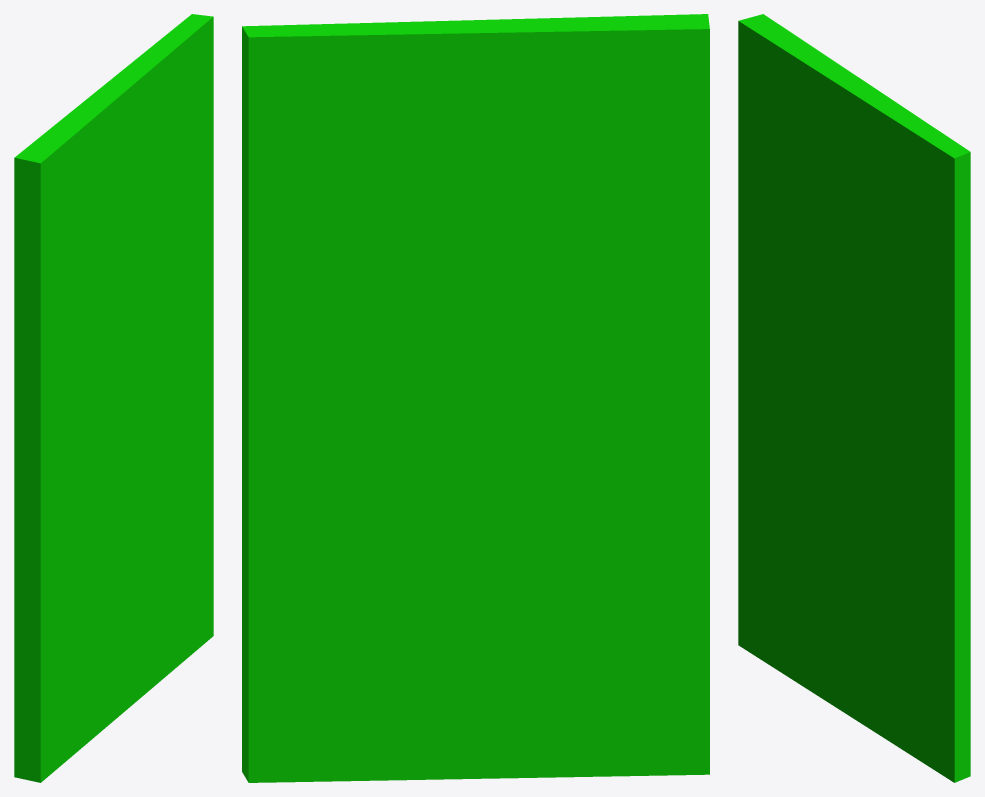
3 views of the same model, side by side, from view 1: azimuth 30°, elevation 25°; view 2: azimuth 150°, elevation 25°; view 3: azimuth 270°, elevation 25° (orthographic). The views are drawn at different scales.
Visible parts, largest first — view 1: Cube.006; view 2: Cube.006; view 3: Cube.006.
Boxes of the visible parts, <box> form: Cube.006: <box>14,14,213,782</box>; Cube.006: <box>242,14,709,782</box>; Cube.006: <box>738,14,970,782</box>.
Bounding box in the file's own units: 916 × 1846 × 623.
